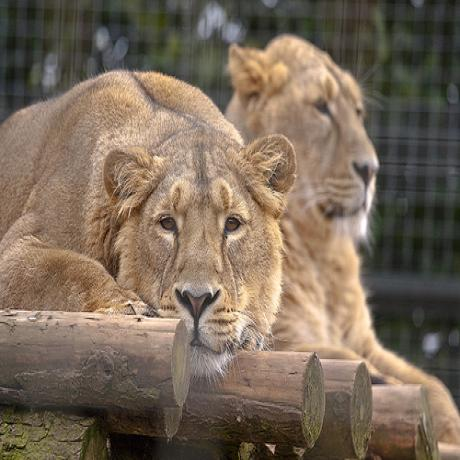Lion: (0, 70, 294, 371), (270, 26, 397, 362)
